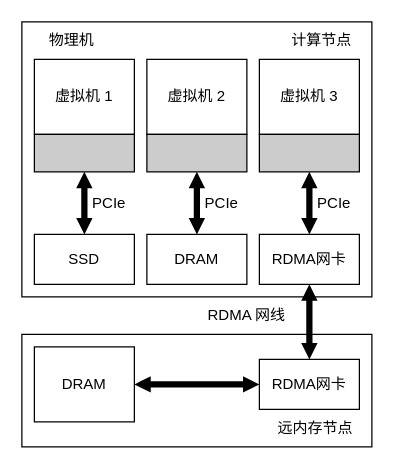
This 394x469 diagram has some shape labels left out. The centre of each missing label's shape, as x and y in pixels:
内核 1: point 83,152
内核 2: point 196,152
内核 3: point 308,152
